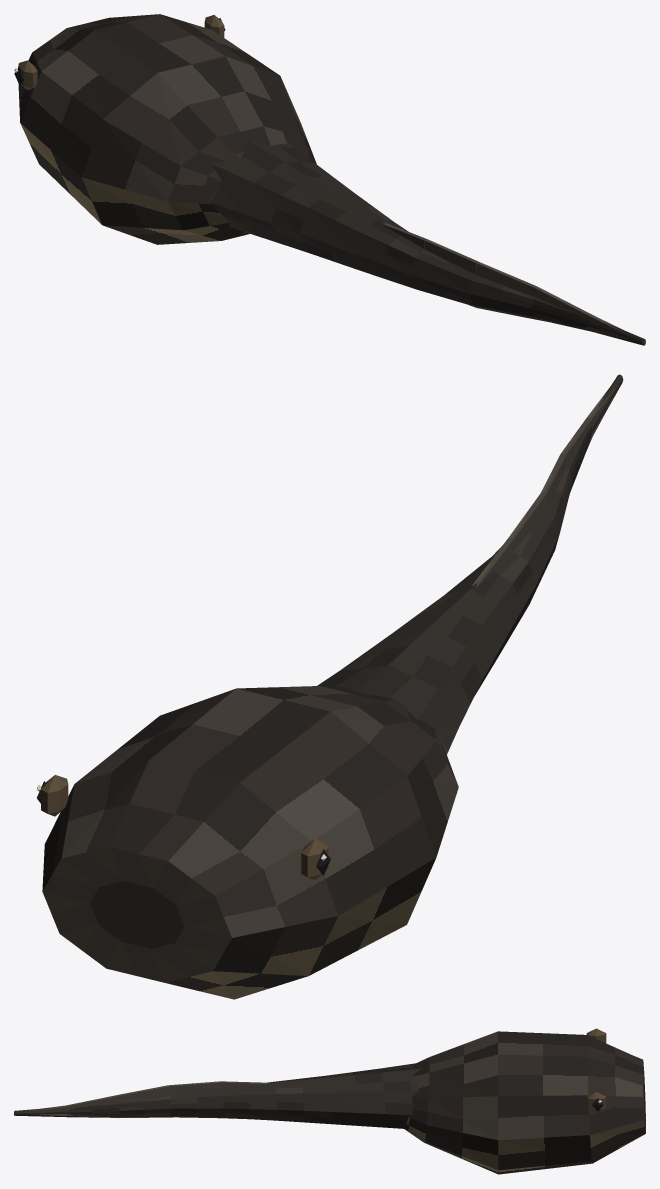
File: mon_fowler_tadpole.glb
3 renders of one model, top to bottom at view 1: azimuth 30°, elevation 25°; view 2: azimuth 150°, elevation 25°; view 3: azimuth 270°, elevation 25°, orthographic. The views are drawn at different scales.
Parts seen in each view (by area): view 1: closed_body; view 2: closed_body; view 3: closed_body.
Part boxes in pixels (box(x1,y1,x2,y2)): closed_body: box(14, 14, 645, 345); closed_body: box(36, 374, 623, 999); closed_body: box(14, 1028, 645, 1174).
Bounding box in the file's own units: 0.0274 × 0.0205 × 0.0979.
1 material, 1 textured.
